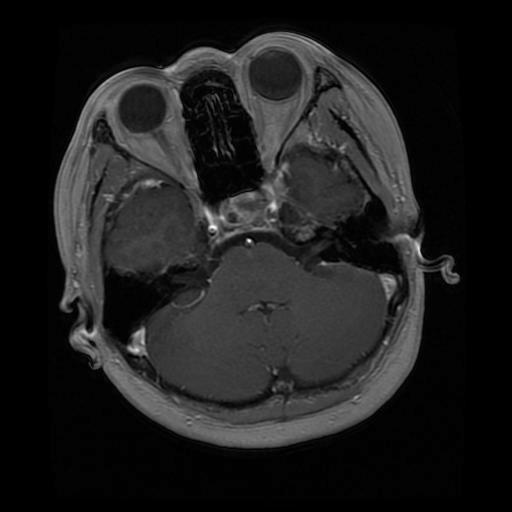Tumour-Pituitary: (205, 187, 275, 249)
